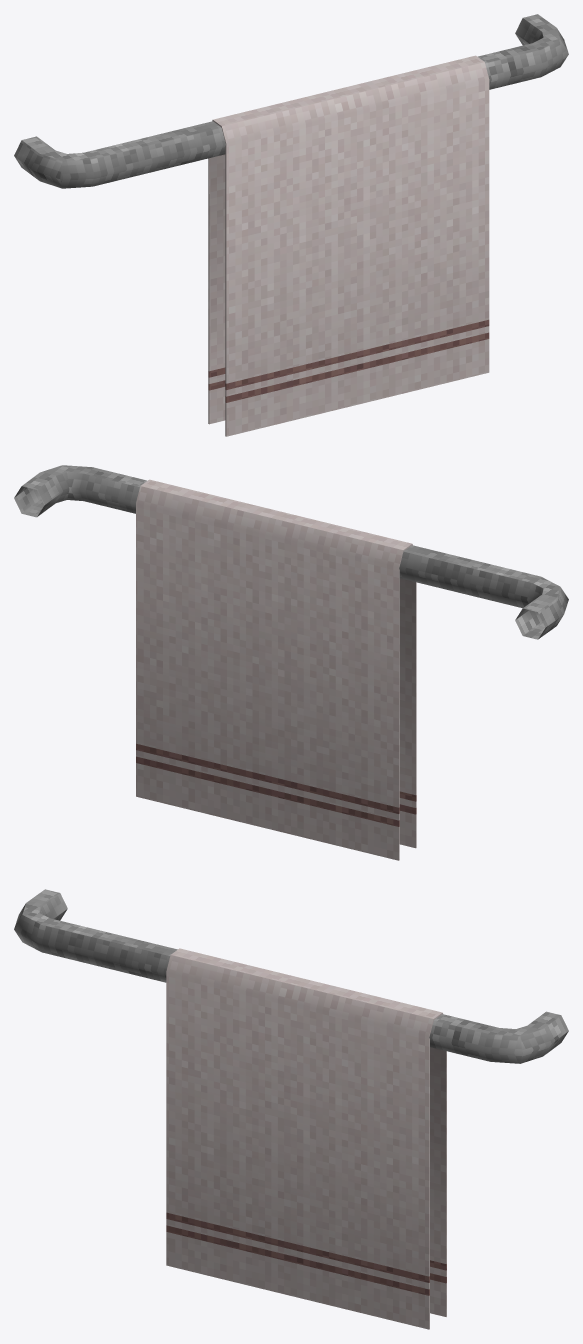
The model's file is towel_rack.fbx.
3 views of the same model, one above another, from view 1: azimuth 30°, elevation 25°; view 2: azimuth 150°, elevation 25°; view 3: azimuth 330°, elevation 25° (orthographic).
Visible parts, largest first — view 1: Bathroom_Towel; view 2: Bathroom_Towel; view 3: Bathroom_Towel.
Boxes of the visible parts, <box> form: Bathroom_Towel: <box>14,14,568,436</box>; Bathroom_Towel: <box>14,465,568,860</box>; Bathroom_Towel: <box>14,889,568,1329</box>.
Size of the model in its own units: 118 by 65.38 by 16.11.
